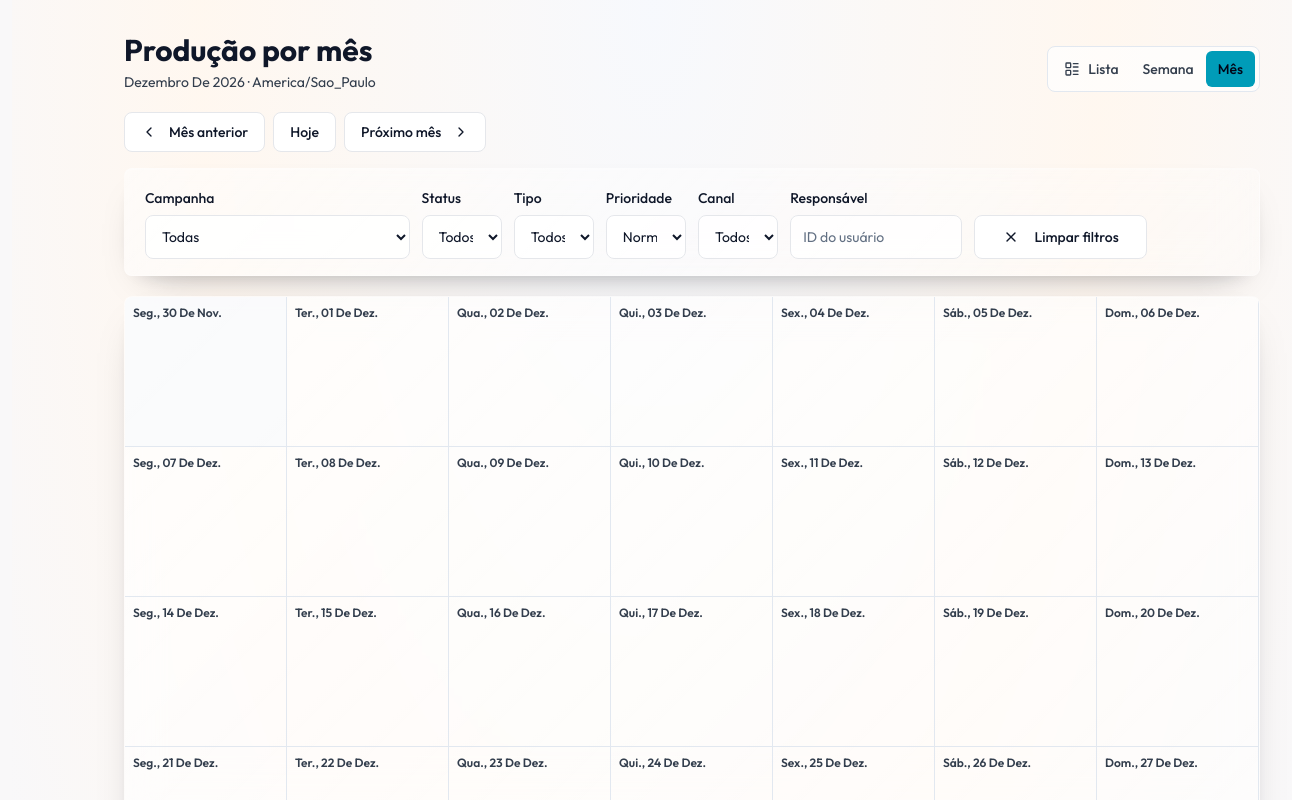
Scenario: ProductionMonthPage › queries one calendar month, renders overflow-safe cells and advances into January
The image size is (1292, 800).
What coordinates should you click on to do the following:
click the button "Próximo mês"
I would click on:
 (415, 132)
Its box is [344, 112, 486, 152].
(page scrolled)
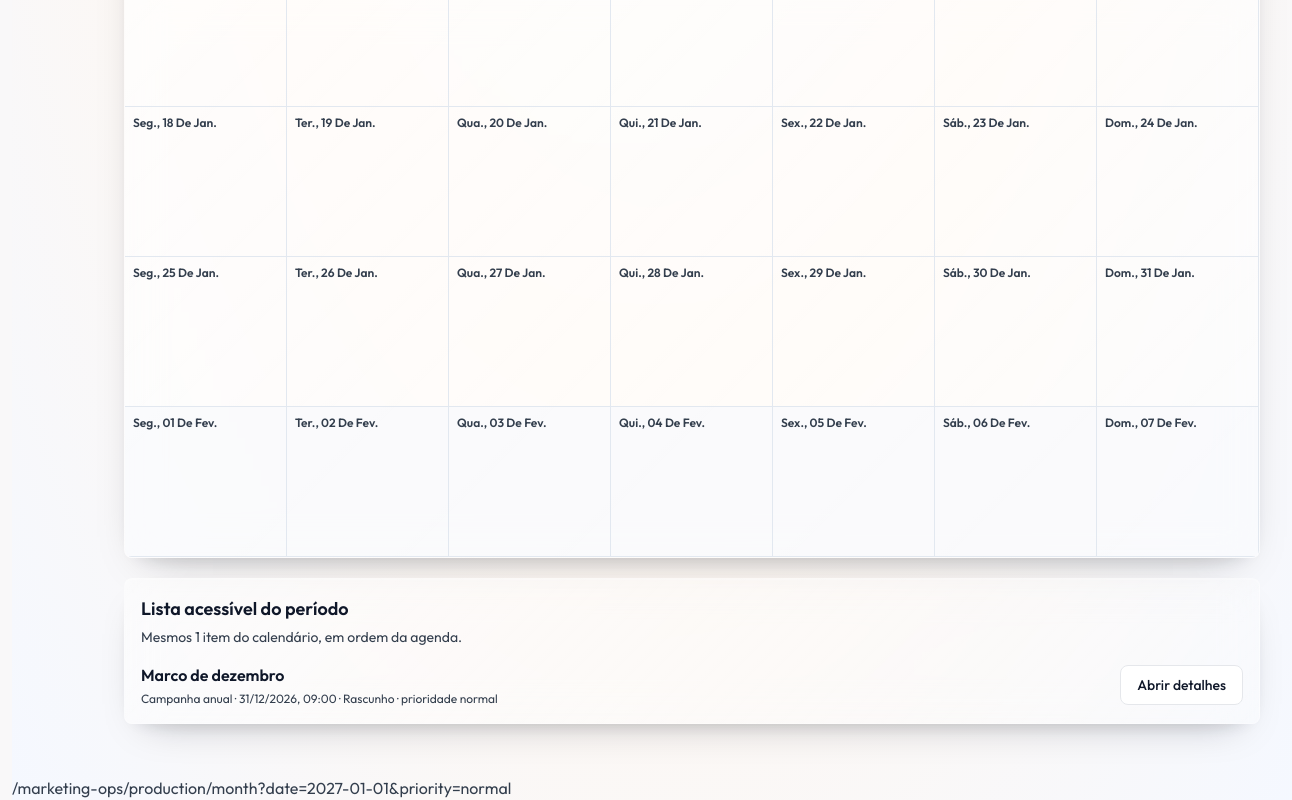
Expected: the text with test id "location" shows "priority=normal", [258, 778, 511, 798]
Expected: the text with test id "location" shows "date=2027-01-01", [258, 778, 511, 798]
